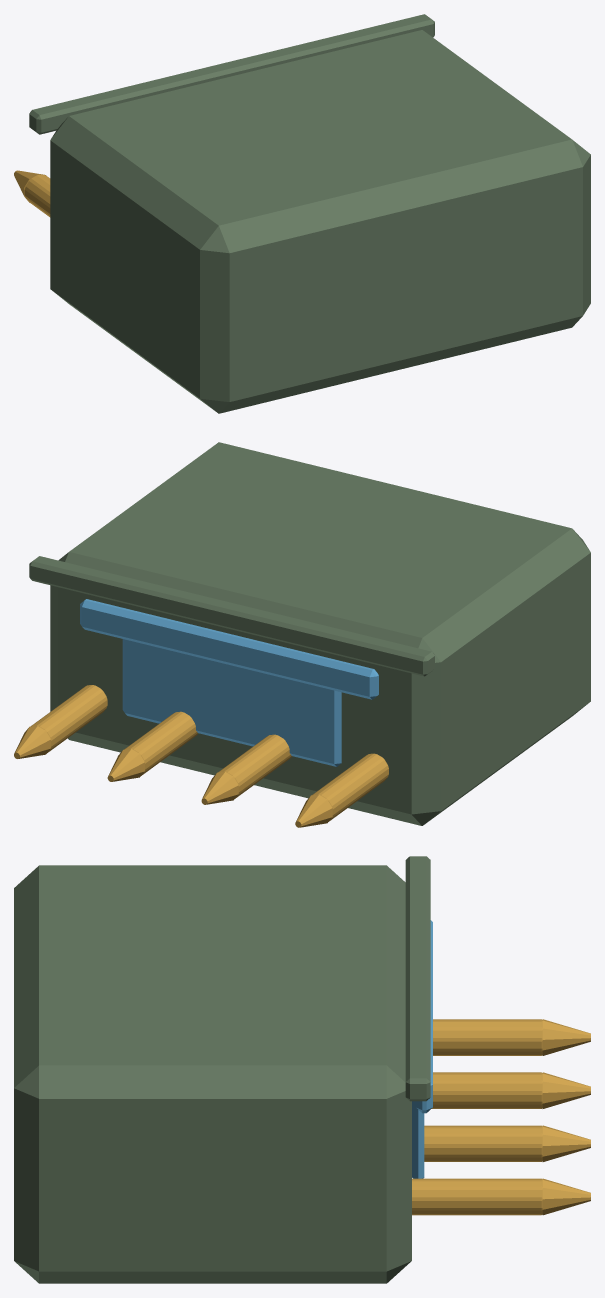
The model's file is item_ammo_subsonic.glb.
3 renders of one model, top to bottom at view 1: azimuth 30°, elevation 25°; view 2: azimuth 150°, elevation 25°; view 3: azimuth 270°, elevation 25°, orthographic. The views are drawn at different scales.
Parts seen in each view (by area): view 1: item_ammo_subsonic; view 2: item_ammo_subsonic; view 3: item_ammo_subsonic.
Boxes of the visible parts, <box> form: item_ammo_subsonic: <box>14,14,590,413</box>; item_ammo_subsonic: <box>14,442,590,827</box>; item_ammo_subsonic: <box>14,856,590,1283</box>.
Bounding box in the file's own units: 0.255 × 0.115 × 0.2755.
